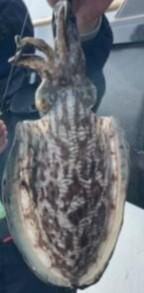Cephalopod: (0, 0, 130, 292)
